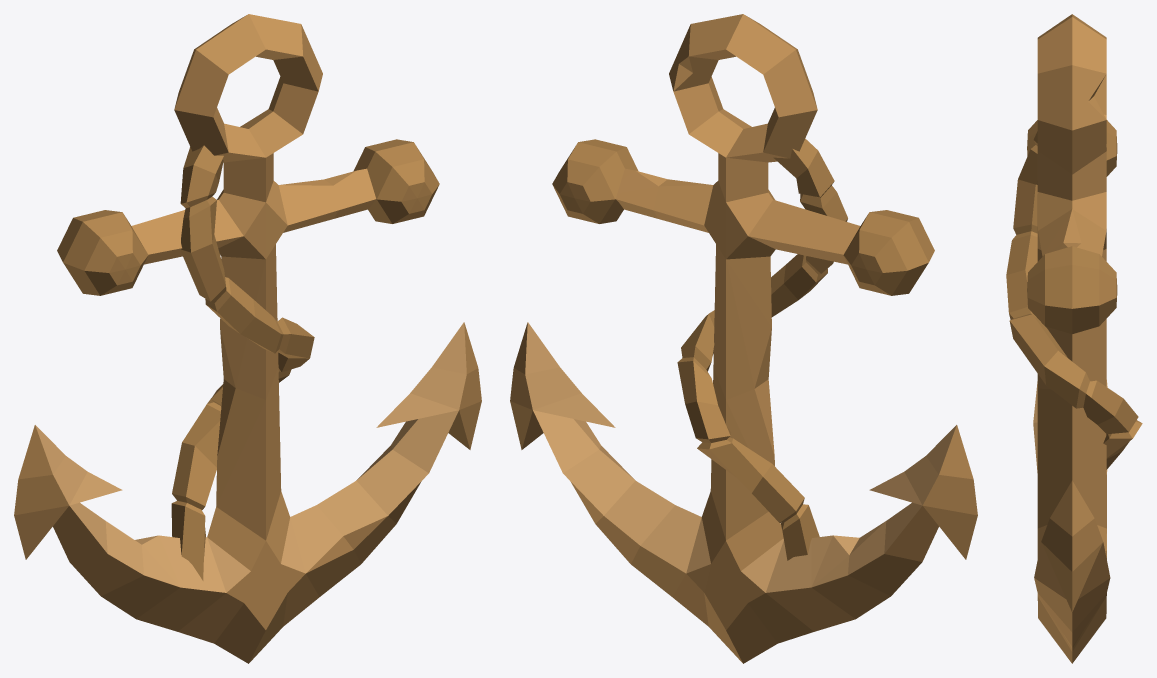
Rendered from SM_Prop_Treasure_Anchor_01.fbx.
The picture shows the model from 3 angles, left to right: view 1: azimuth 30°, elevation 25°; view 2: azimuth 150°, elevation 25°; view 3: azimuth 270°, elevation 25°; orthographic projection.
Parts seen in each view (by area): view 1: SM_Prop_Treasure_Anchor_01; view 2: SM_Prop_Treasure_Anchor_01; view 3: SM_Prop_Treasure_Anchor_01.
Boxes of the visible parts, <box> form: SM_Prop_Treasure_Anchor_01: <box>14,14,481,663</box>; SM_Prop_Treasure_Anchor_01: <box>510,14,977,663</box>; SM_Prop_Treasure_Anchor_01: <box>1006,14,1142,663</box>.
Size of the model in its own units: 34.65 by 46 by 8.79.
